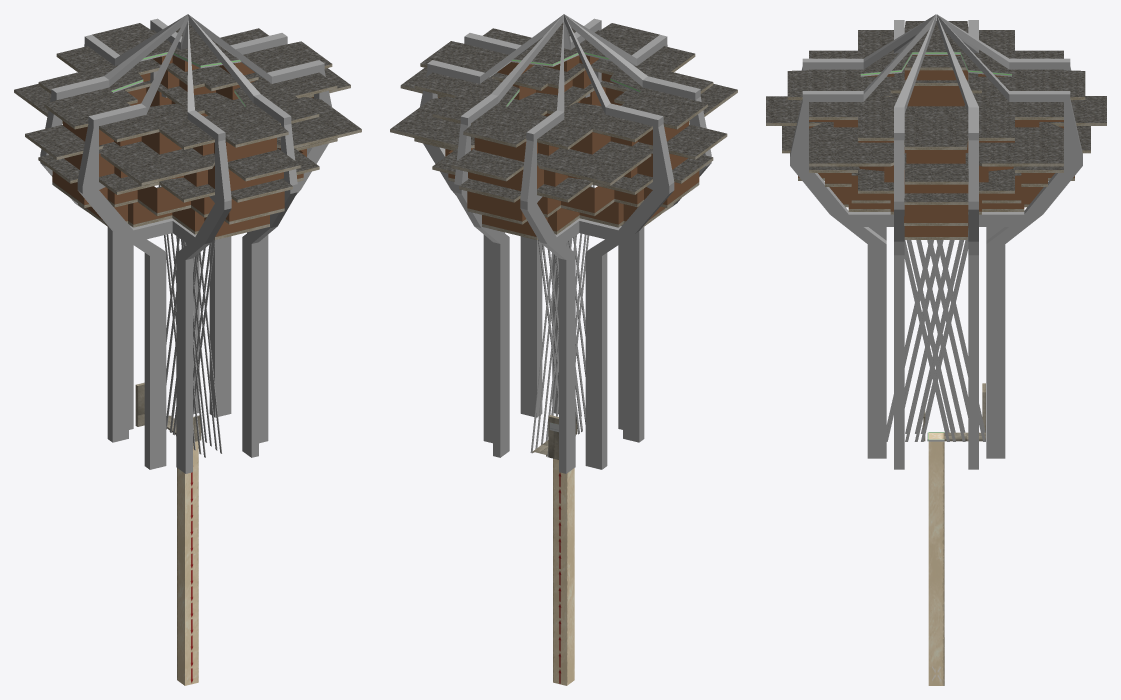
File: Exhibit_Str_Tower_3_Art.fbx
3 renders of one model, left to right at view 1: azimuth 30°, elevation 25°; view 2: azimuth 150°, elevation 25°; view 3: azimuth 270°, elevation 25°, orthographic.
Visible parts, largest first — view 1: Exhibit_Str_Tower_Pillars_3, Exhibit_Str_Tower_3_Floor_5, Exhibit_Str_Tower_3_Floor_4, Exhibit_Str_Tower_3_Glass, Elevator_Machine, Exhibit_Str_Tower_3_Floor_3, Elevator_Glasswall, Exhibit_Str_Tower_3_Floor_2, Exhibit_Str_Tower_3_Floor_1; view 2: Exhibit_Str_Tower_Pillars_3, Exhibit_Str_Tower_3_Floor_5, Exhibit_Str_Tower_3_Floor_4, Exhibit_Str_Tower_3_Glass, Exhibit_Str_Tower_3_Floor_3, Elevator_Machine, Elevator_Glasswall, Exhibit_Str_Tower_3_Floor_2, Exhibit_Str_Tower_3_Floor_1; view 3: Exhibit_Str_Tower_Pillars_3, Exhibit_Str_Tower_3_Floor_5, Exhibit_Str_Tower_3_Floor_4, Exhibit_Str_Tower_3_Glass, Elevator_Glasswall, Elevator_Machine, Exhibit_Str_Tower_3_Floor_3, Exhibit_Str_Tower_3_Floor_2, Exhibit_Str_Tower_3_Floor_1.
Boxes of the visible parts, x1,y1,x2,y2 form: Exhibit_Str_Tower_Pillars_3: (40, 14, 331, 473); Exhibit_Str_Tower_3_Floor_5: (38, 22, 337, 149); Exhibit_Str_Tower_3_Floor_4: (14, 58, 361, 185); Exhibit_Str_Tower_3_Glass: (52, 55, 313, 236); Elevator_Machine: (177, 441, 198, 685); Exhibit_Str_Tower_3_Floor_3: (38, 81, 337, 202); Elevator_Glasswall: (158, 185, 222, 457); Exhibit_Str_Tower_3_Floor_2: (52, 149, 303, 224); Exhibit_Str_Tower_3_Floor_1: (78, 165, 269, 239); Exhibit_Str_Tower_Pillars_3: (420, 14, 711, 473); Exhibit_Str_Tower_3_Floor_5: (414, 22, 713, 149); Exhibit_Str_Tower_3_Floor_4: (390, 58, 737, 185); Exhibit_Str_Tower_3_Glass: (438, 55, 699, 236); Exhibit_Str_Tower_3_Floor_3: (414, 81, 713, 202); Elevator_Machine: (553, 458, 574, 685); Elevator_Glasswall: (530, 185, 594, 457); Exhibit_Str_Tower_3_Floor_2: (448, 149, 699, 224); Exhibit_Str_Tower_3_Floor_1: (482, 165, 673, 239); Exhibit_Str_Tower_Pillars_3: (790, 14, 1082, 469); Exhibit_Str_Tower_3_Floor_5: (787, 21, 1085, 149); Exhibit_Str_Tower_3_Floor_4: (766, 55, 1106, 184); Exhibit_Str_Tower_3_Glass: (798, 55, 1074, 236); Elevator_Glasswall: (886, 231, 985, 441); Elevator_Machine: (928, 433, 944, 685); Exhibit_Str_Tower_3_Floor_3: (782, 80, 1090, 204); Exhibit_Str_Tower_3_Floor_2: (798, 106, 1074, 225); Exhibit_Str_Tower_3_Floor_1: (843, 154, 1029, 239).
Size of what is drawn, in the model's own units: 3215 by 6966 by 3219.
6 materials, 4 textured.
